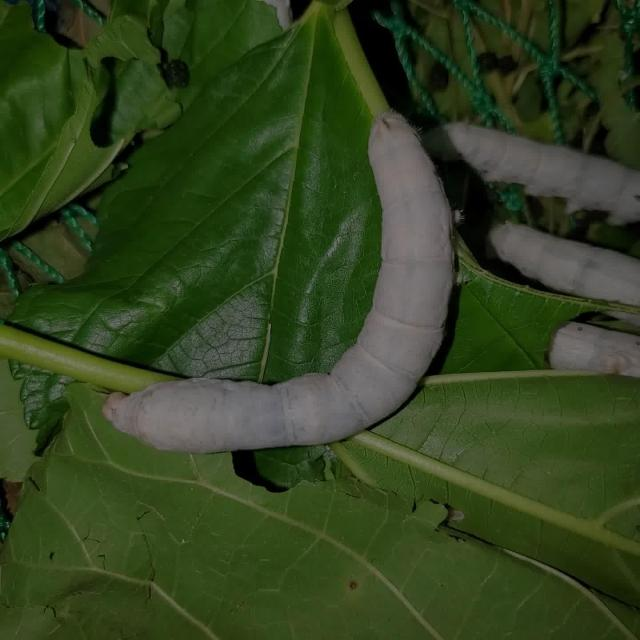Healthy: (82, 80, 472, 510)
